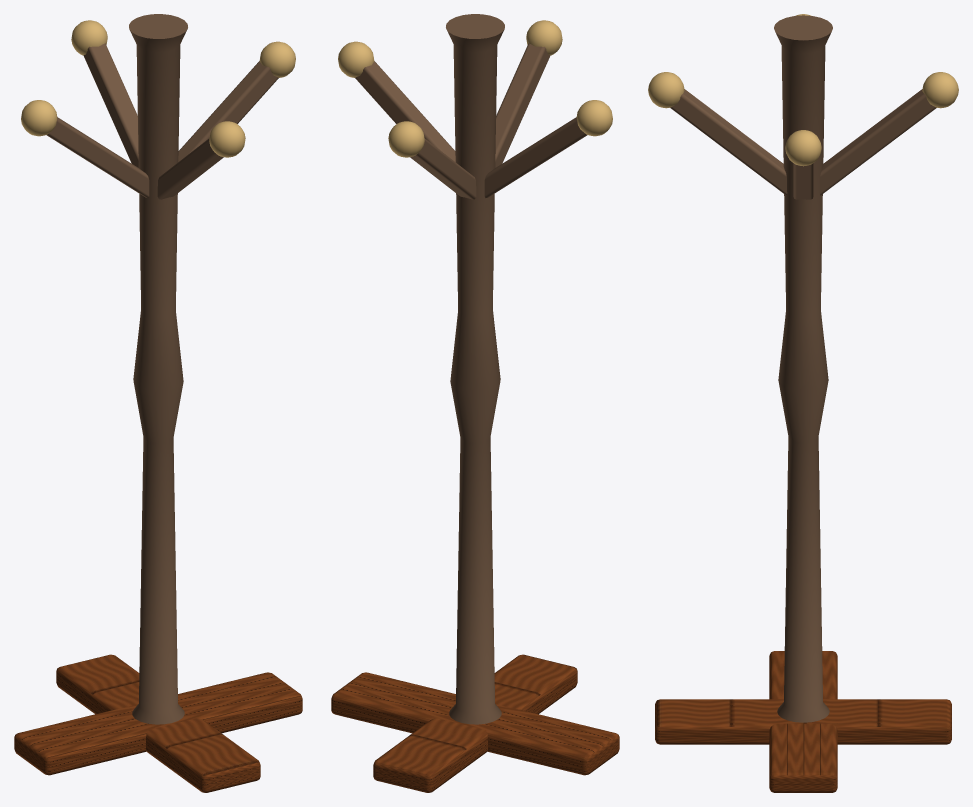
The model's file is adventurers-tavern-and-guild-hall-hat-stand-5b598c61__24707.glb.
The picture shows the model from 3 angles, left to right: view 1: azimuth 30°, elevation 25°; view 2: azimuth 150°, elevation 25°; view 3: azimuth 270°, elevation 25°; orthographic projection.
Visible parts, largest first — view 1: hat-stand; view 2: hat-stand; view 3: hat-stand.
Part boxes in pixels (box(x1,y1,x2,y2)): hat-stand: box(14, 14, 302, 792); hat-stand: box(331, 14, 619, 792); hat-stand: box(648, 14, 958, 792).
Bounding box in the file's own units: 0.68 × 1.7 × 0.68.
Materials: 3 (1 with a texture image).
